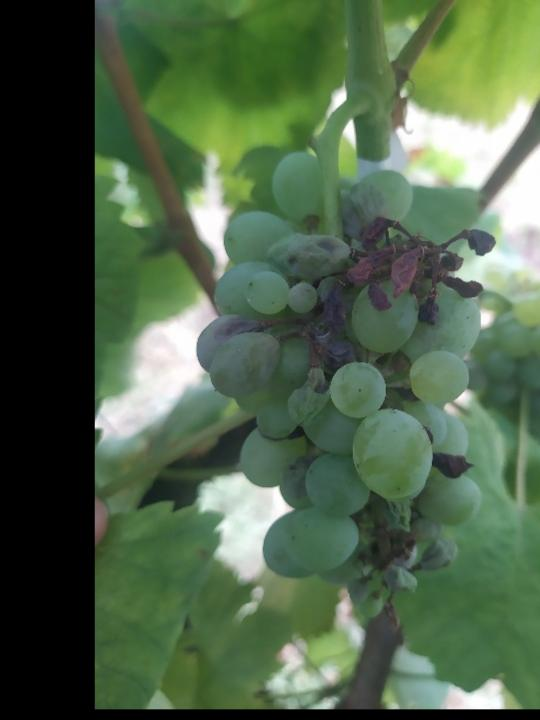grape: (194, 148, 501, 636)
